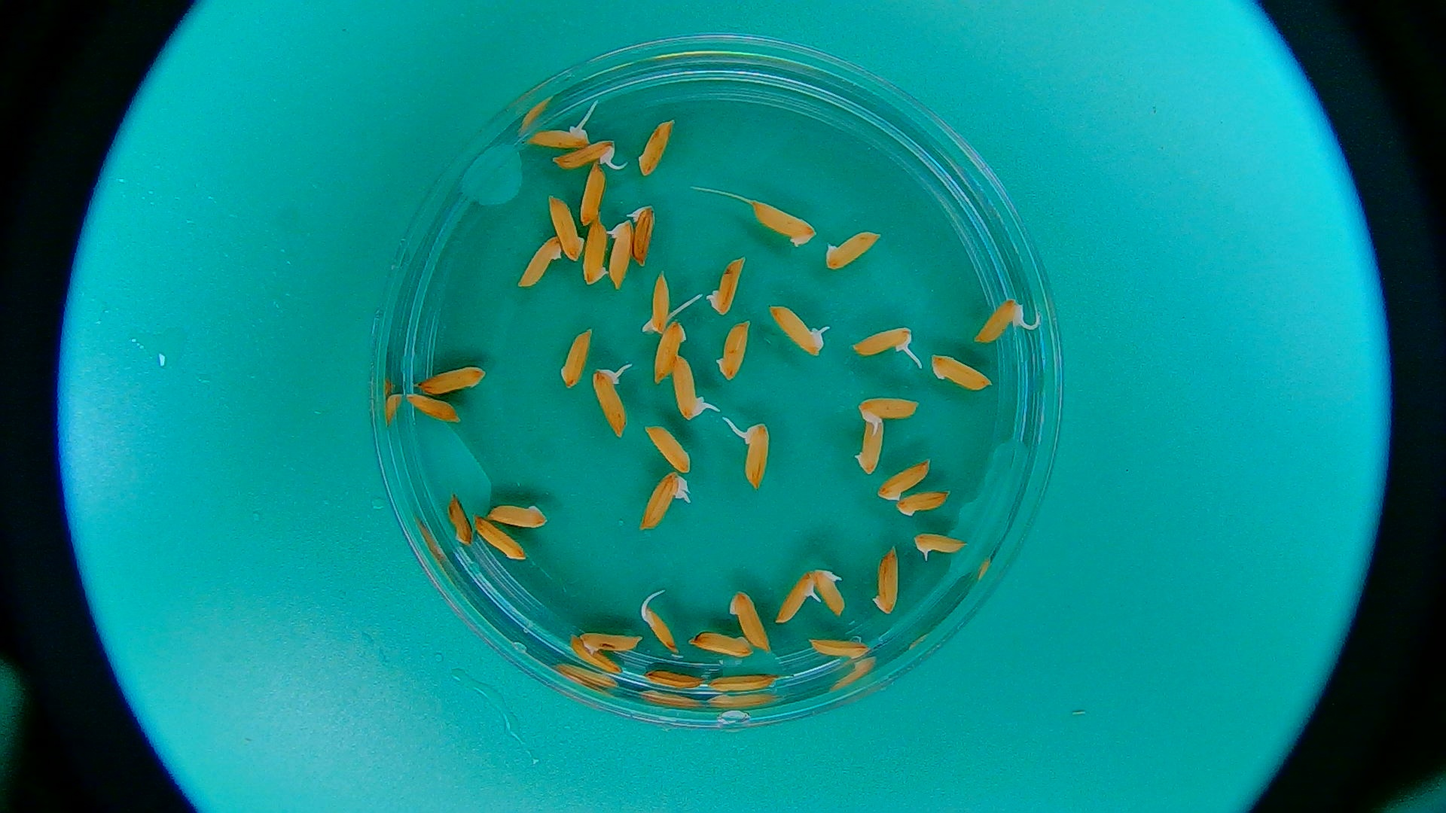no: (702, 251, 751, 324), (712, 312, 761, 385), (514, 231, 564, 293), (546, 191, 585, 265), (472, 516, 529, 564), (731, 590, 772, 655), (752, 205, 814, 245), (871, 537, 901, 619), (558, 326, 594, 394), (825, 227, 878, 271), (649, 324, 689, 382), (643, 425, 692, 472), (566, 635, 622, 674), (419, 364, 485, 397), (692, 628, 753, 662), (578, 163, 609, 228), (931, 357, 990, 391), (892, 488, 956, 519), (638, 115, 670, 177), (877, 462, 931, 498), (853, 419, 886, 475), (405, 395, 459, 427), (443, 493, 474, 547), (707, 671, 773, 696), (581, 630, 642, 656), (806, 637, 873, 660), (584, 216, 606, 286), (484, 504, 550, 526), (642, 670, 708, 692)
yes: (636, 470, 691, 533), (768, 305, 827, 359), (773, 570, 821, 623), (973, 297, 1023, 344), (593, 370, 629, 433), (670, 354, 703, 419), (851, 324, 912, 358), (807, 562, 846, 615), (549, 139, 619, 168), (741, 421, 772, 486), (642, 273, 673, 336), (860, 396, 918, 429), (606, 218, 632, 287), (630, 206, 657, 267), (912, 530, 965, 561), (644, 607, 679, 651), (528, 123, 585, 147)
